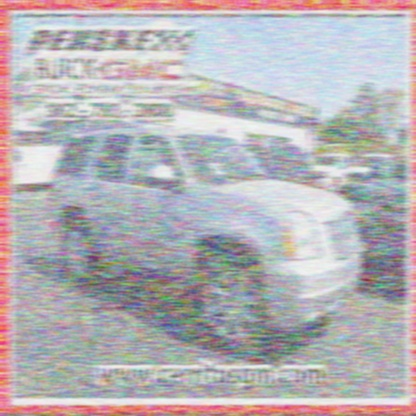Vehicle: (50, 122, 364, 355)
